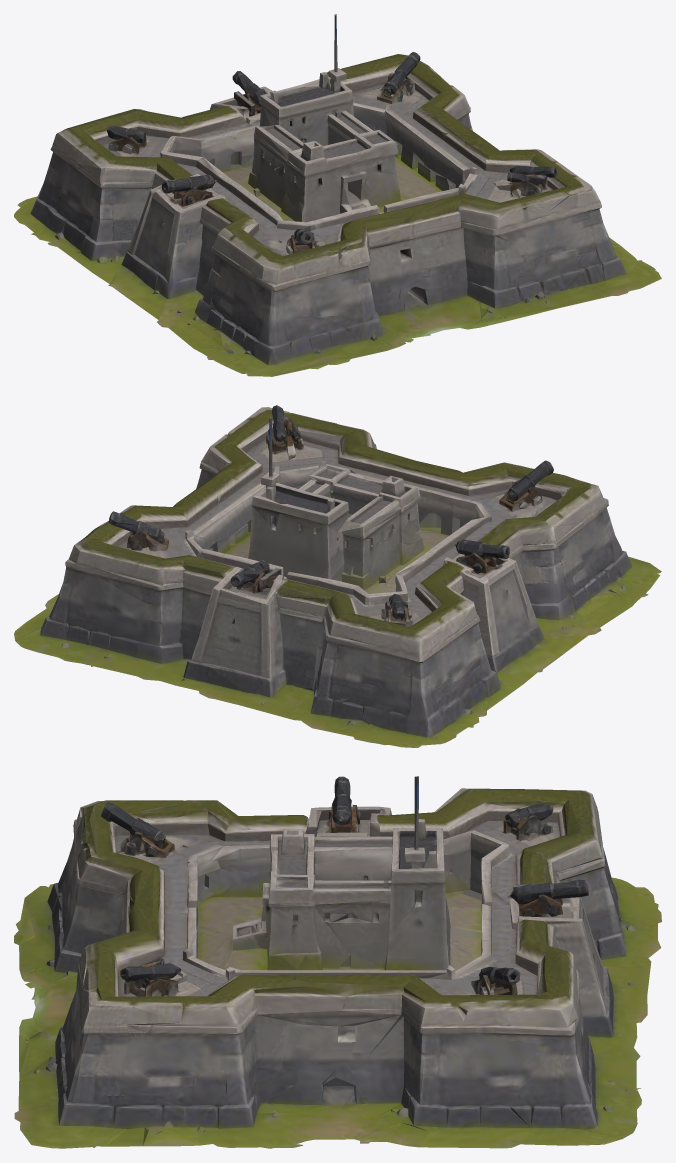
File: castle.glb
3 views of the same model, one above another, from view 1: azimuth 30°, elevation 25°; view 2: azimuth 150°, elevation 25°; view 3: azimuth 270°, elevation 25° (orthographic). The views are drawn at different scales.
Size of the model in its own units: 1.9 by 0.8412 by 1.89.
1 material, 1 textured.
